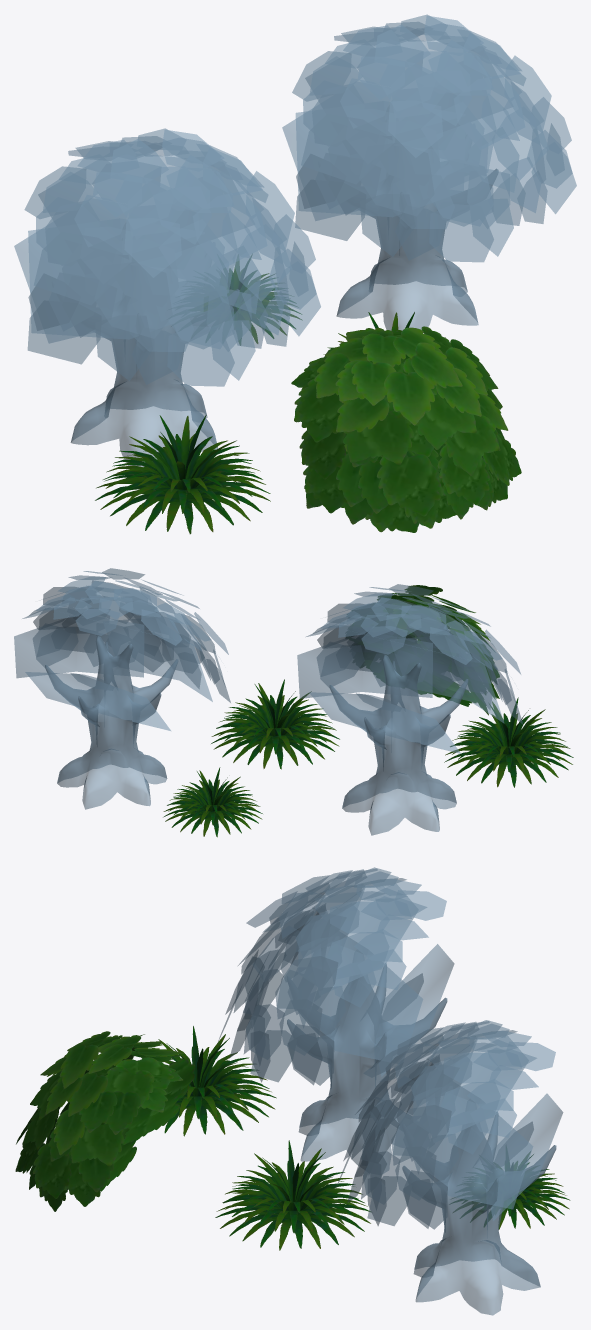
Rendered from hydrangeas.glb.
The picture shows the model from 3 angles, top to bottom: view 1: azimuth 30°, elevation 25°; view 2: azimuth 150°, elevation 25°; view 3: azimuth 270°, elevation 25°; orthographic projection. The views are drawn at different scales.
Size of the model in its own units: 31.89 by 15.29 by 29.
Materials: 3 (2 with a texture image).
